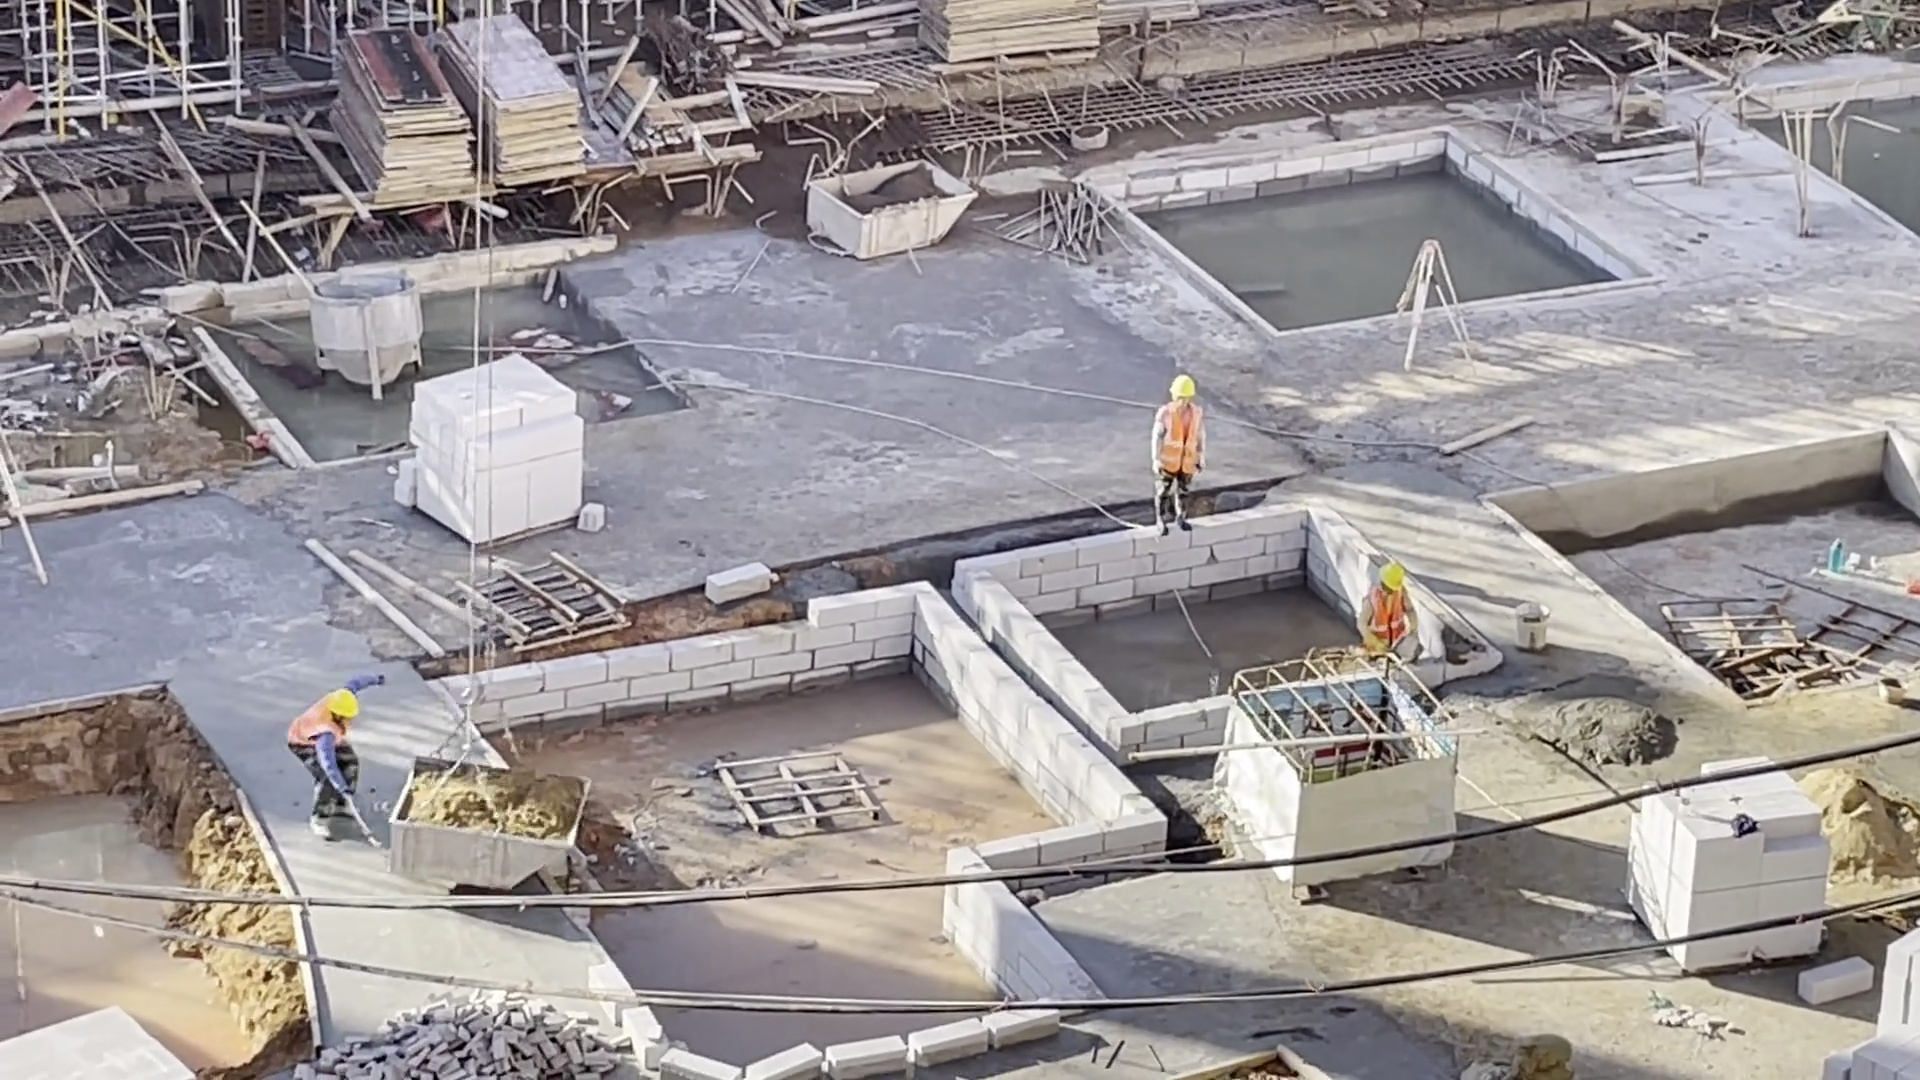board: (322, 23, 482, 215), (430, 11, 589, 194), (907, 5, 1101, 83)
brick: (383, 354, 599, 545), (1623, 793, 1834, 916), (1806, 919, 1919, 1080), (4, 1000, 207, 1080)
helmet: (1375, 557, 1407, 593), (323, 686, 358, 719), (1163, 374, 1201, 400)
hopper: (385, 756, 595, 889), (800, 153, 978, 265), (307, 267, 422, 401)
person: (288, 665, 396, 839), (1143, 369, 1211, 537), (1345, 558, 1426, 665)
vest: (1156, 398, 1205, 482), (1364, 588, 1408, 648)
